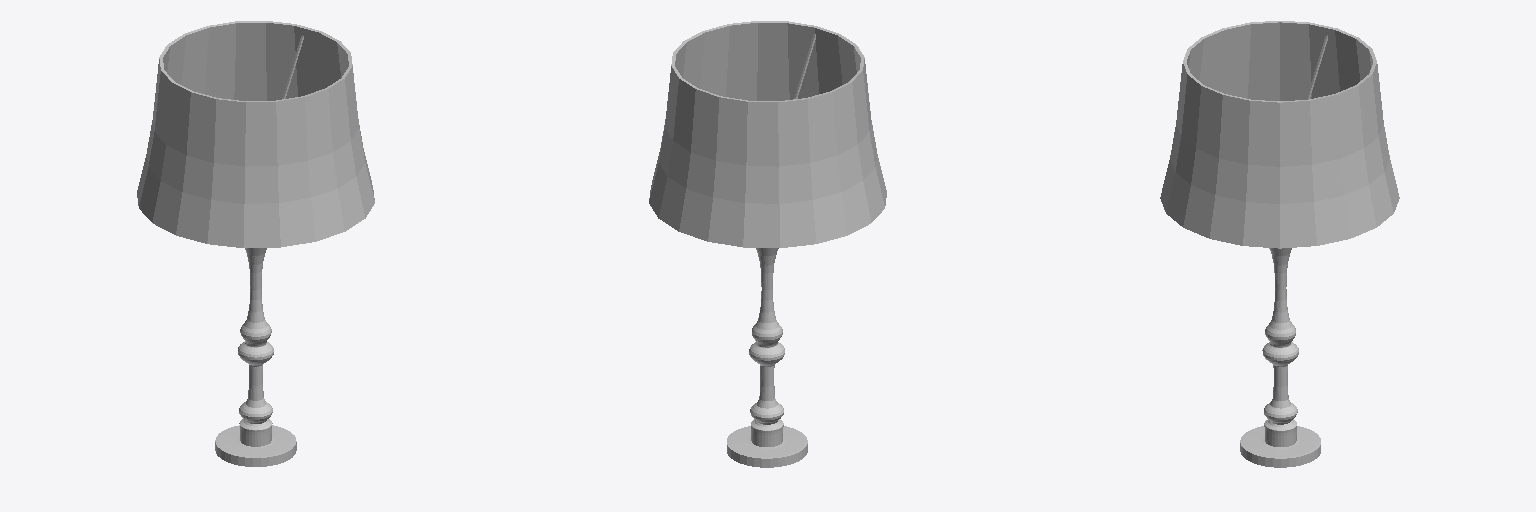
Rendered from Abajur.obj.
3 renders of one model, left to right at view 1: azimuth 30°, elevation 25°; view 2: azimuth 150°, elevation 25°; view 3: azimuth 270°, elevation 25°, orthographic.
Parts seen in each view (by area): view 1: Abajur1; view 2: Abajur1; view 3: Abajur1.
Boxes of the visible parts, x1=… form: Abajur1: x1=137, y1=21, x2=374, y2=466; Abajur1: x1=649, y1=21, x2=886, y2=467; Abajur1: x1=1160, y1=21, x2=1399, y2=467.
Size of the model in its own units: 0.9287 by 1.66 by 0.9287.